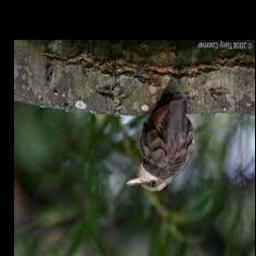Cuckoo: (126, 96, 195, 192)
